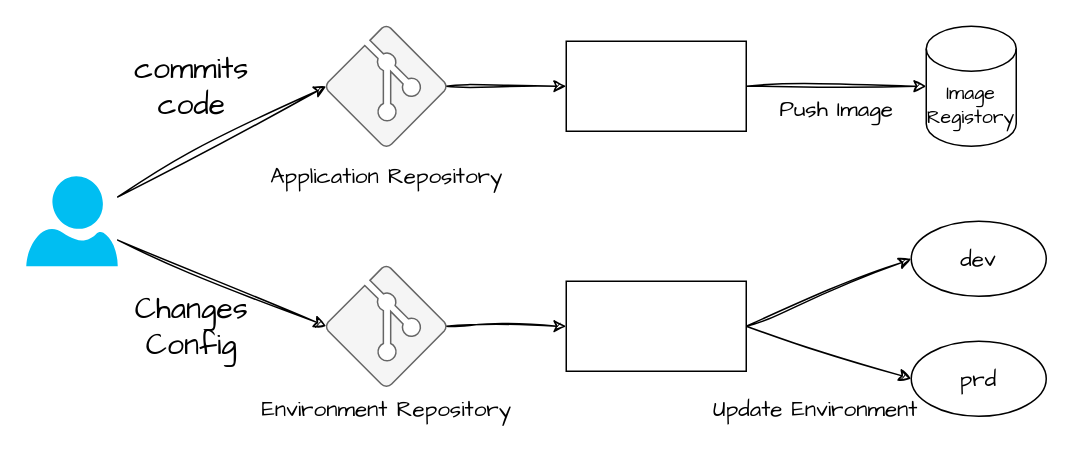
Image size: 1073x458. Some labels were removed from this diagram. Each missing label, with the centre of its shape:
CD pipeline Deploy tool: point (655, 325)
CI pipeline: point (655, 85)
